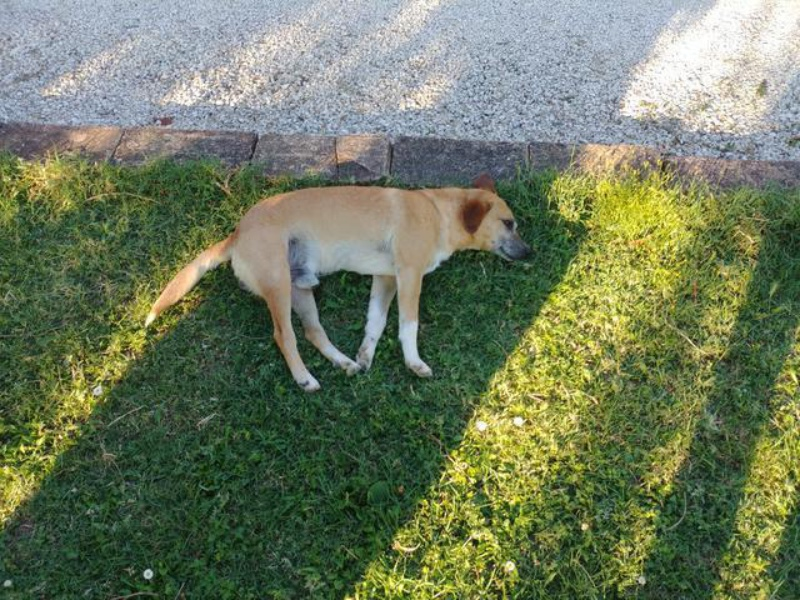puppy: (110, 130, 614, 406)
